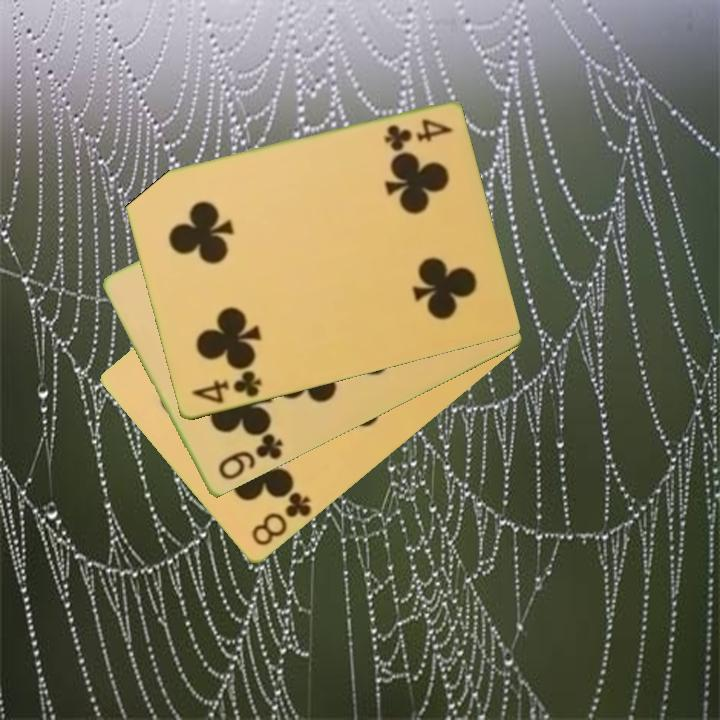4c: (188, 367, 265, 407), (380, 116, 456, 151)
8c: (248, 488, 315, 550)
9c: (214, 430, 286, 484)
